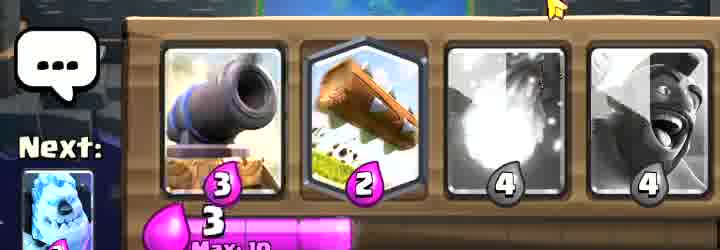cannon: (168, 49, 283, 199)
ice-golem: (25, 171, 93, 249)
log: (311, 43, 423, 192)
